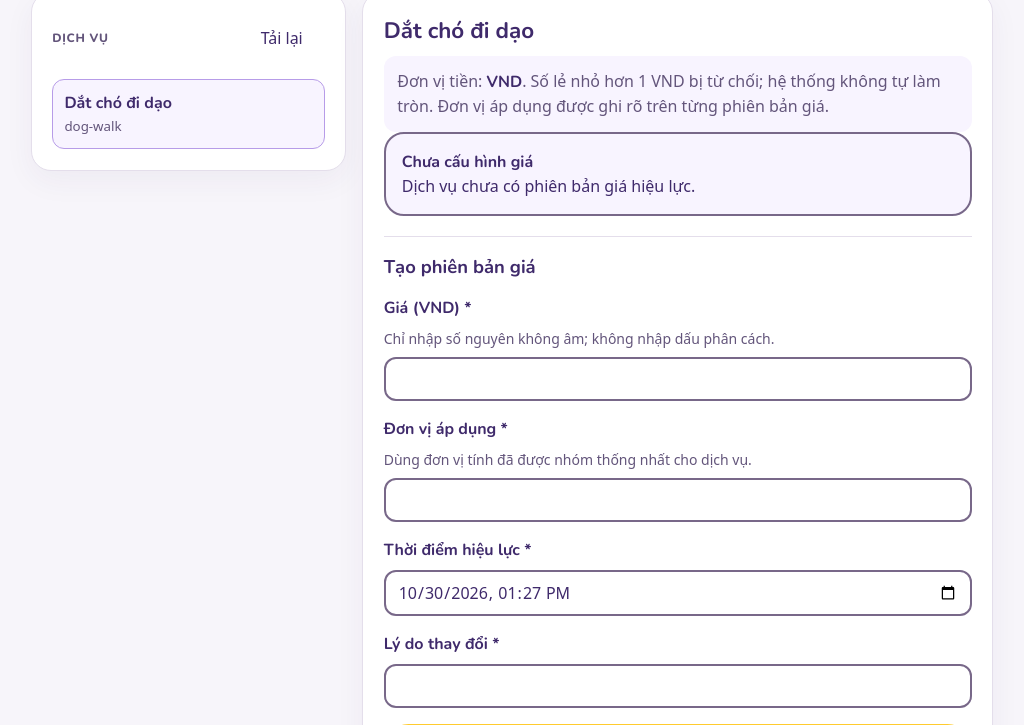
Test: Admin writes an integer VND price with explicit unit and effective time
(page scrolled)
Check: the heading "Chưa cấu hình giá" is shown, box [402,151,533,173]
Step 1. Type "95000" into the field labelled "Giá (VND)" → (678,379), box [384,357,972,401]
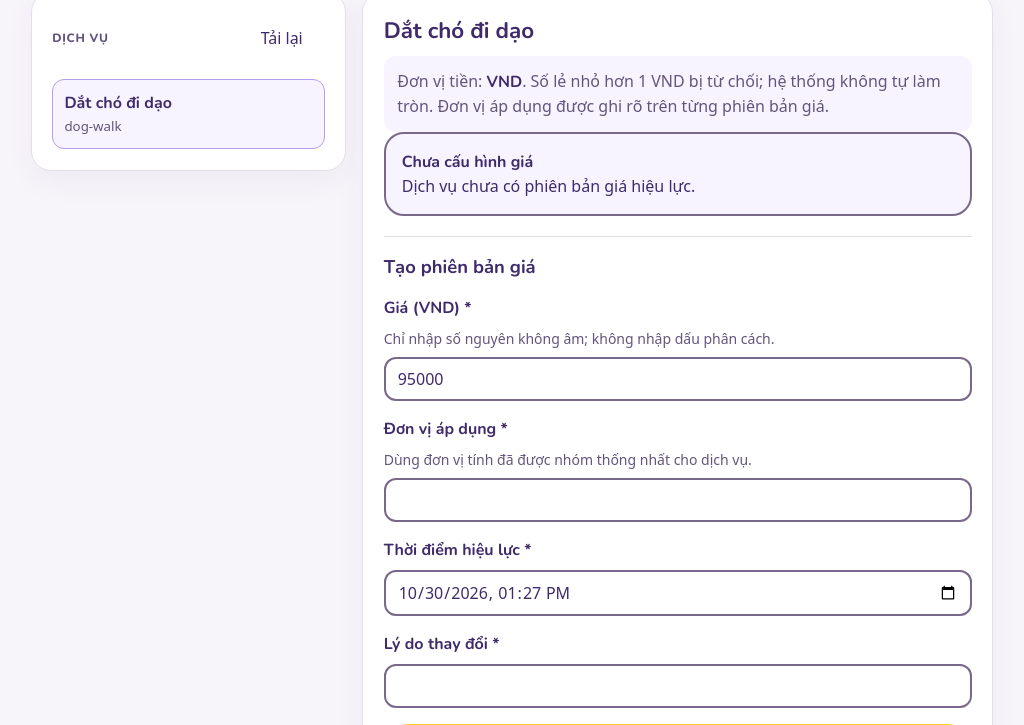
Step 2. Type "mỗi lượt" into the field labelled "Đơn vị áp dụng" → (678,500), box [384,478,972,522]
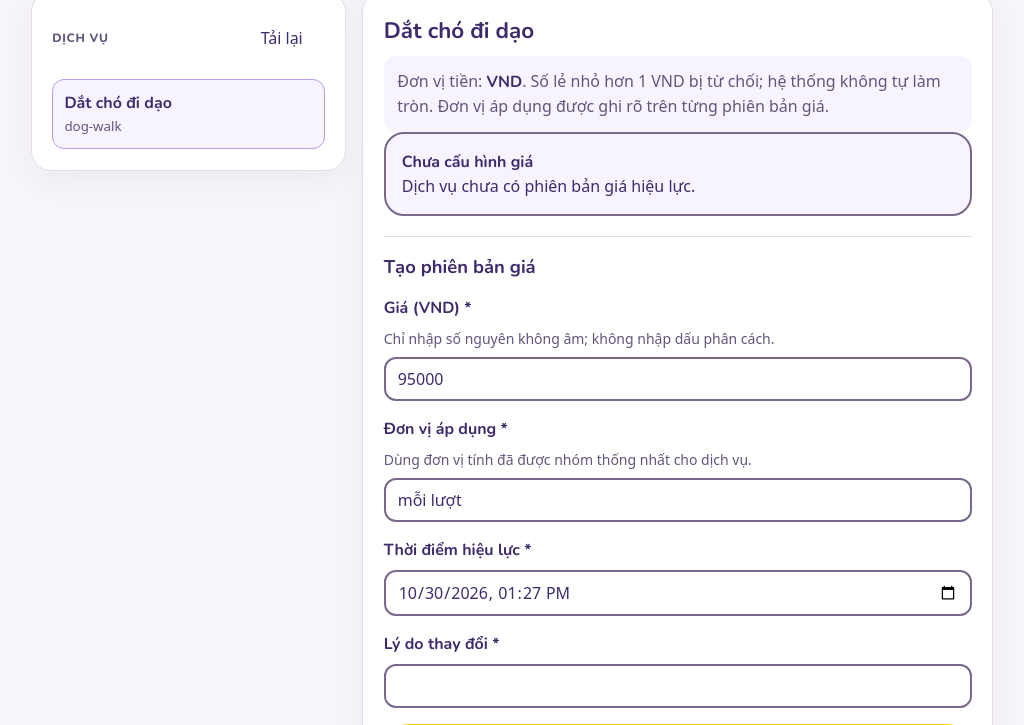
Step 3. Type "Bảng giá đã được duyệt" into the field labelled "Lý do thay đổi" → (678,686), box [384,664,972,708]
(page scrolled)
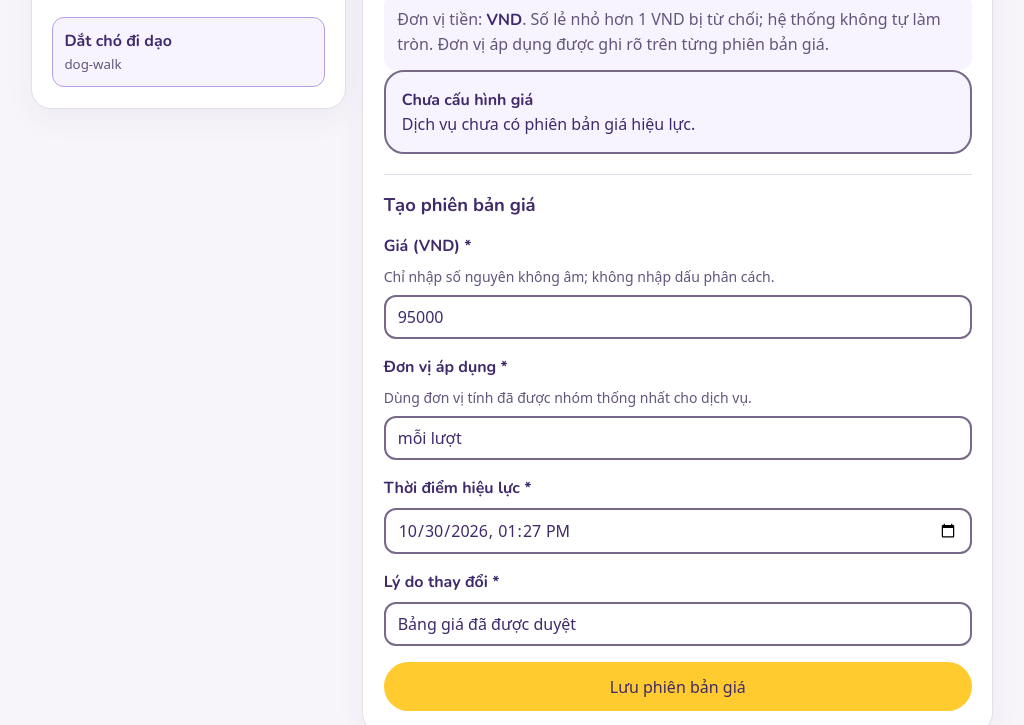
Step 4. Click the button "Lưu phiên bản giá" → (678,687), box [384,662,972,711]
(page scrolled)
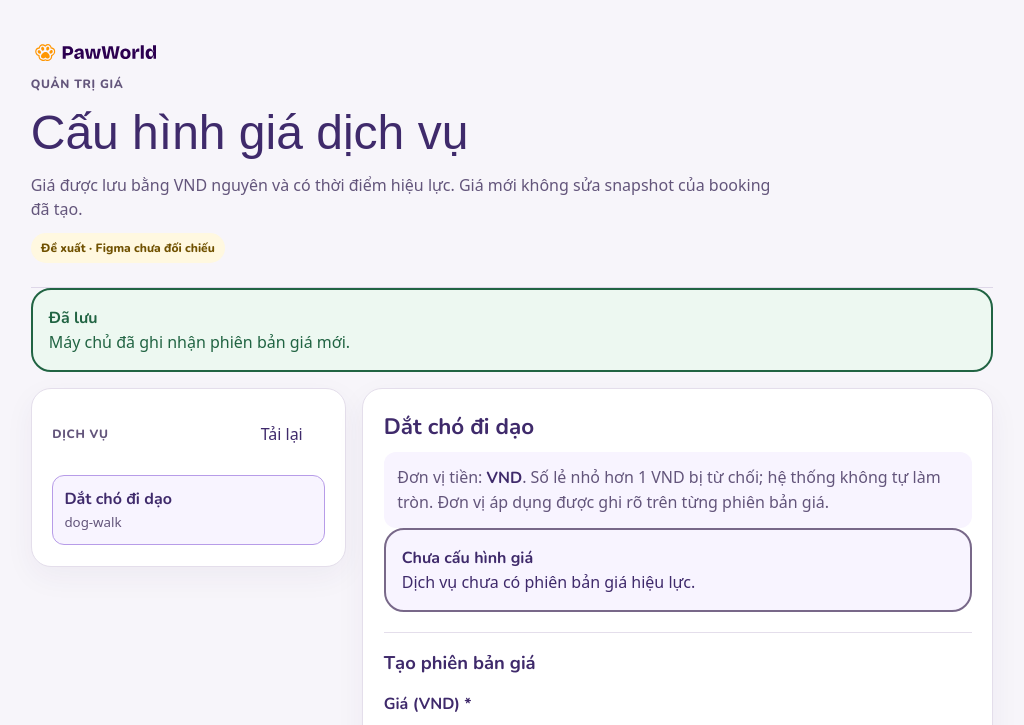
Check: the text "Máy chủ đã ghi nhận phiên bản giá mới." is shown, box [49,331,350,353]
